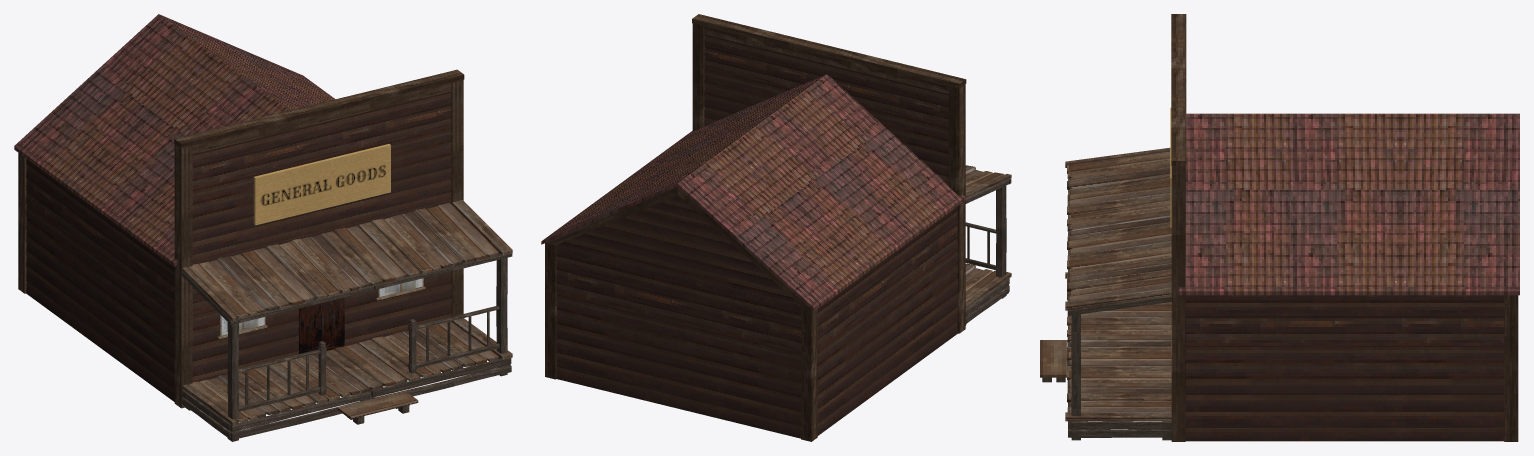
File: General_Goods_Building.fbx
3 renders of one model, left to right at view 1: azimuth 30°, elevation 25°; view 2: azimuth 150°, elevation 25°; view 3: azimuth 270°, elevation 25°, orthographic. The views are drawn at different scales.
Parts seen in each view (by area): view 1: General_Goods_Building; view 2: General_Goods_Building; view 3: General_Goods_Building.
Boxes of the visible parts, box(x1,y1,x2,y2) form: General_Goods_Building: box(14, 14, 512, 441); General_Goods_Building: box(541, 14, 1011, 441); General_Goods_Building: box(1040, 14, 1519, 441).
Size of the model in its own units: 639 by 560 by 865.
Materials: 9 (9 with a texture image).
